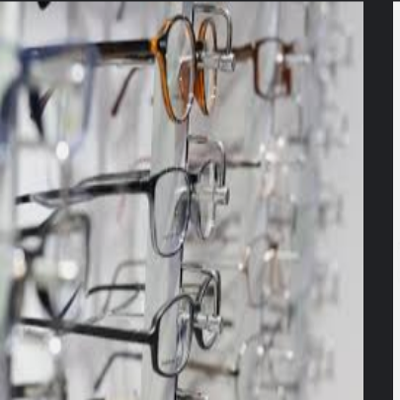glasses: (13, 144, 230, 261), (23, 14, 234, 125), (19, 273, 224, 379), (234, 32, 305, 107)
